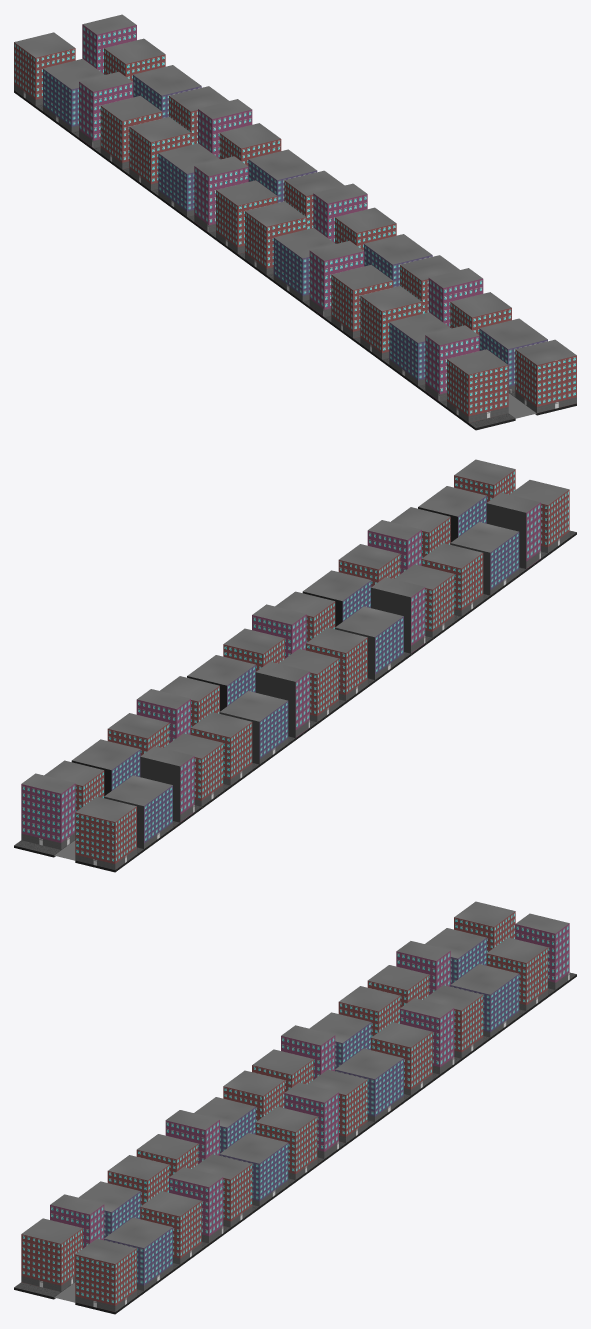
File: city.fbx
3 views of the same model, one above another, from view 1: azimuth 30°, elevation 25°; view 2: azimuth 150°, elevation 25°; view 3: azimuth 330°, elevation 25° (orthographic).
Parts seen in each view (by area): view 1: Plane.001; view 2: Plane.001; view 3: Plane.001.
Boxes of the visible parts, x1,y1,x2,y2 form: Plane.001: [14, 14, 576, 430]; Plane.001: [14, 459, 576, 872]; Plane.001: [14, 901, 576, 1314].
Size of the model in its own units: 5063 by 2800 by 40000.
